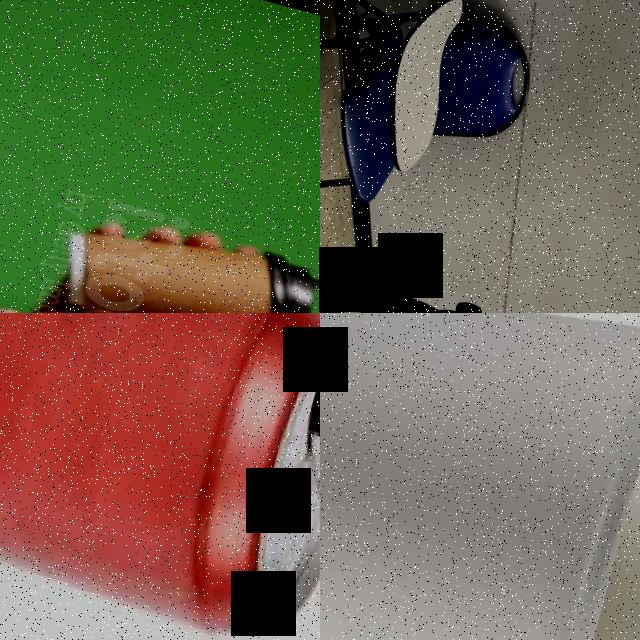can: (0, 313, 320, 640)
cup: (320, 313, 640, 640), (50, 199, 320, 313)
